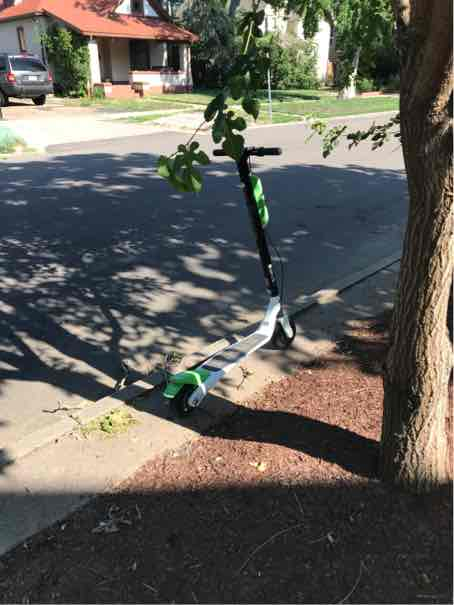scooter: (130, 117, 319, 422)
